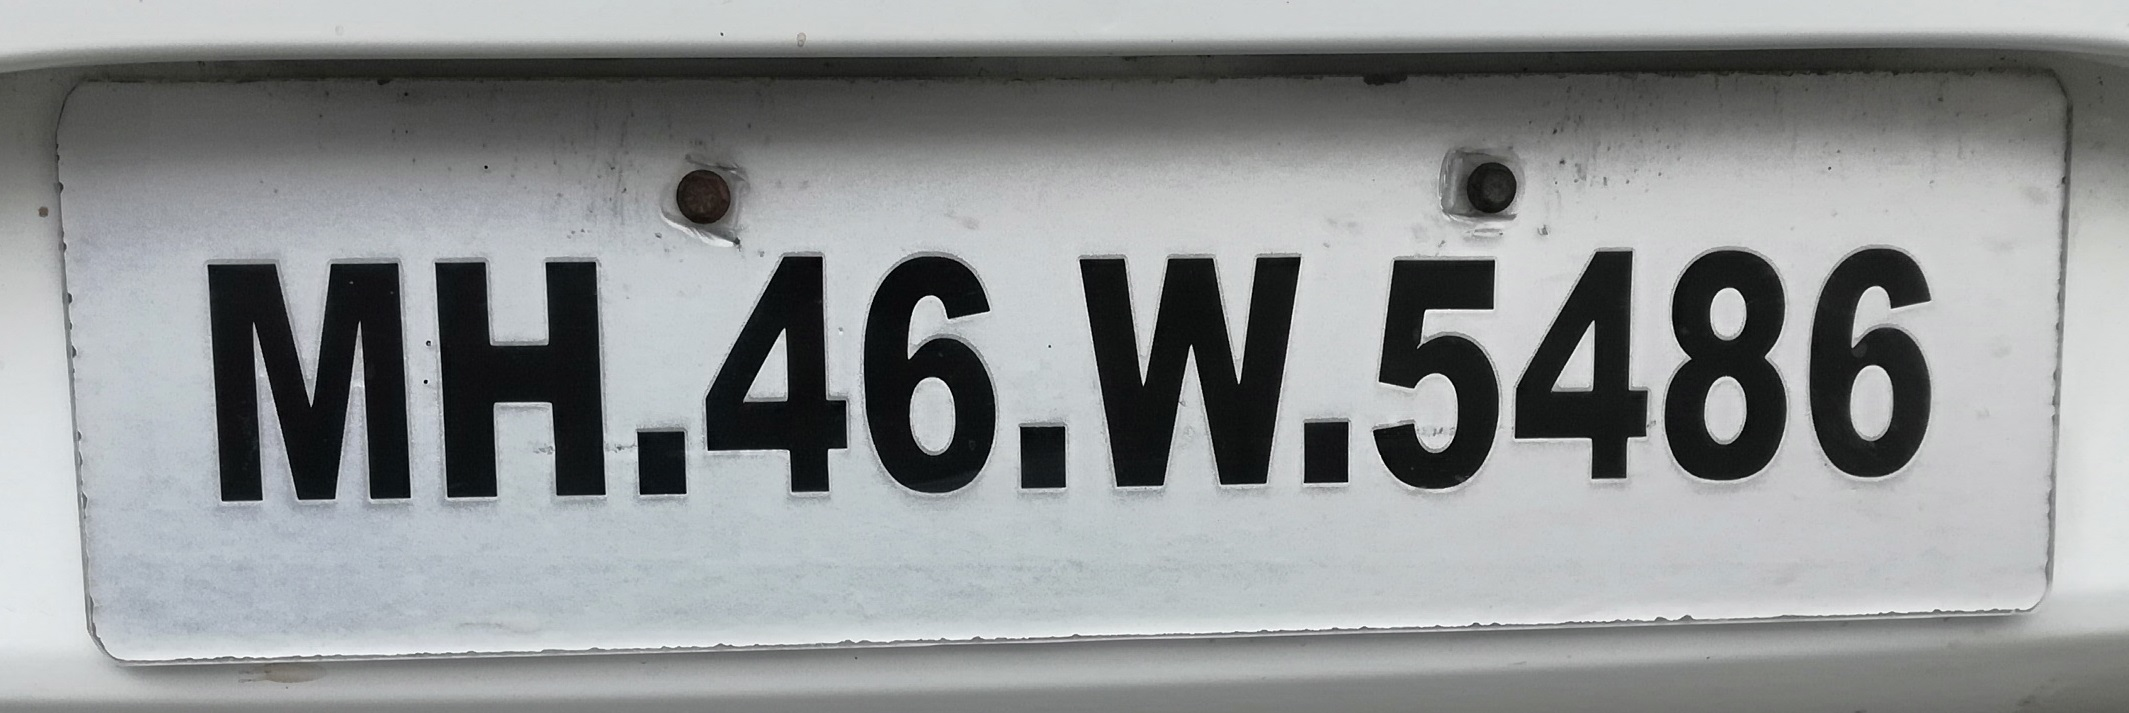numberplate: (46, 62, 2091, 674)
